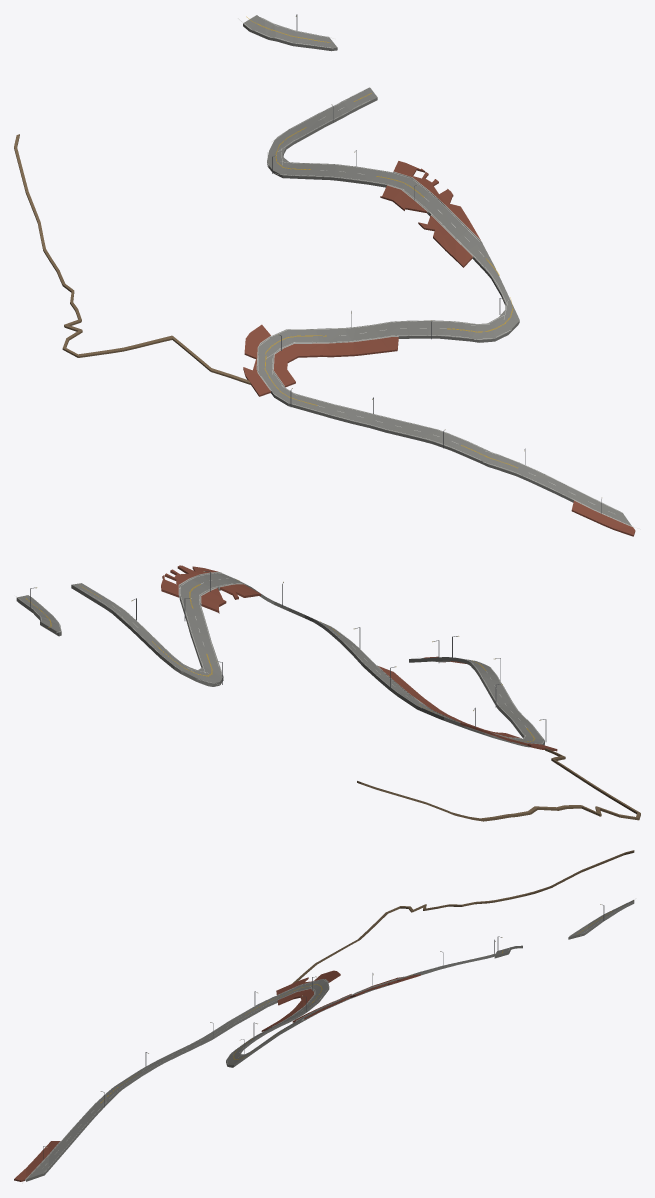
Rendered from 17-109488-59487.7833ebd1.glb.
3 renders of one model, top to bottom at view 1: azimuth 30°, elevation 25°; view 2: azimuth 150°, elevation 25°; view 3: azimuth 270°, elevation 25°, orthographic. The views are drawn at different scales.
Size of the model in its own units: 171 by 128 by 271.
